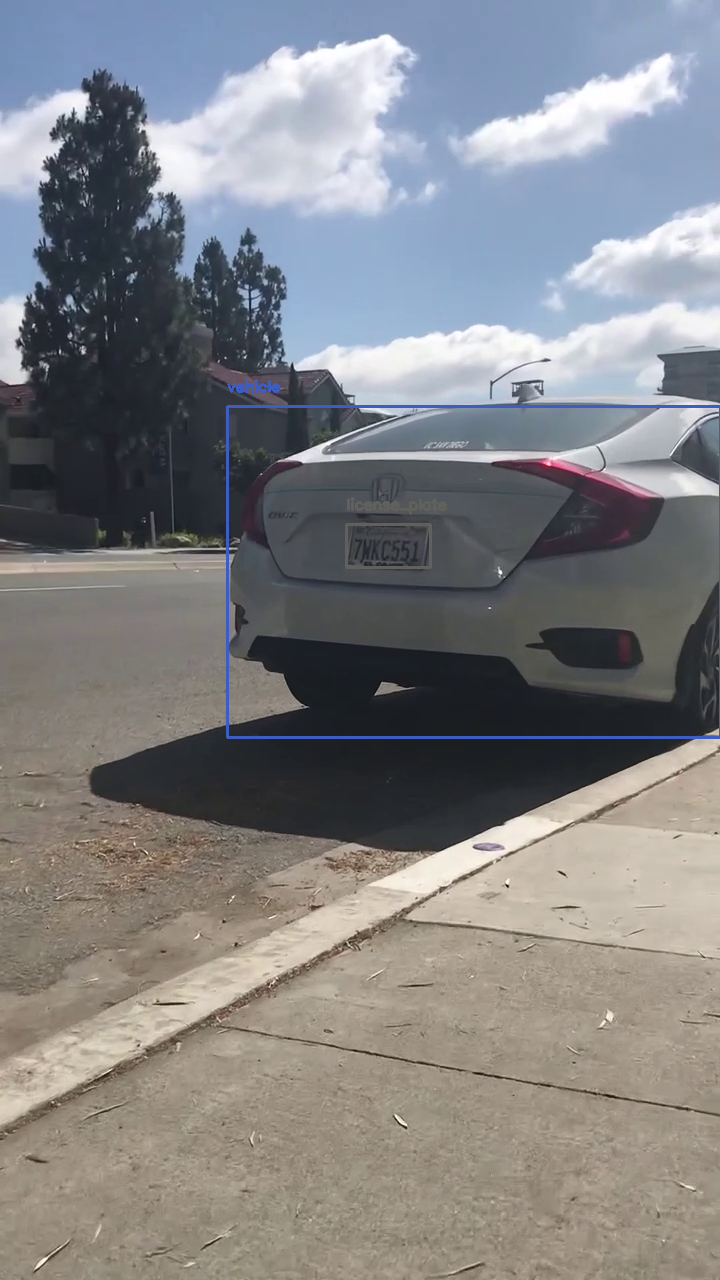license_plate: (346, 524, 430, 567)
vehicle: (227, 406, 720, 737)
